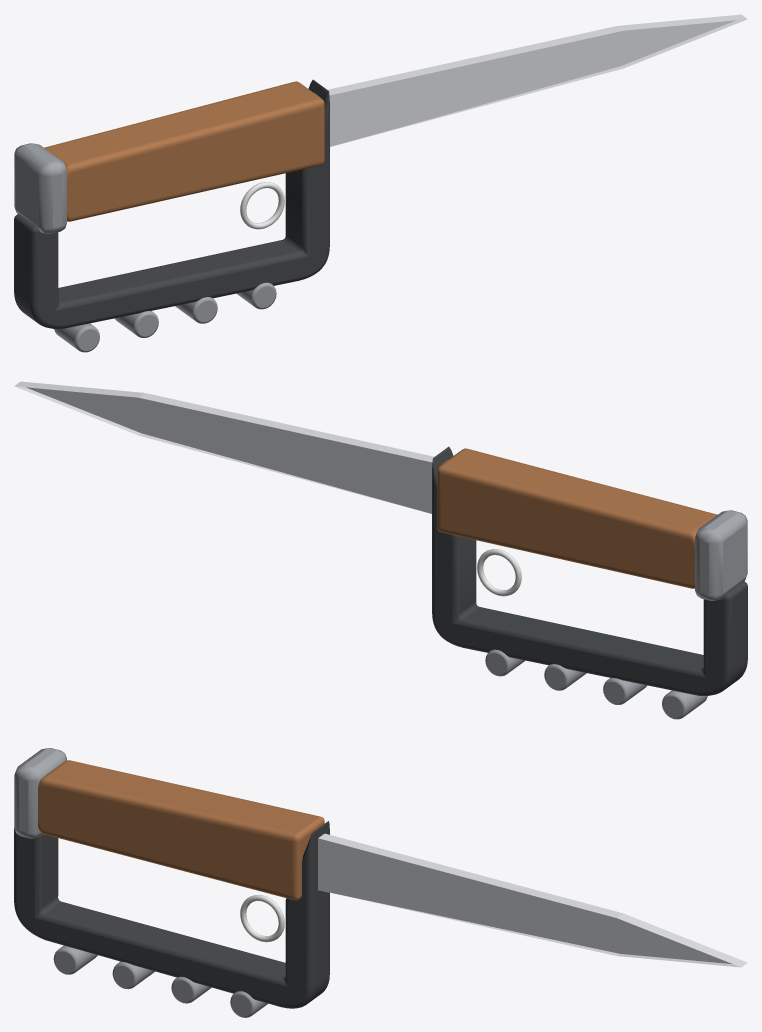
Rendered from knife_trench.glb.
3 renders of one model, top to bottom at view 1: azimuth 30°, elevation 25°; view 2: azimuth 150°, elevation 25°; view 3: azimuth 330°, elevation 25°, orthographic.
Parts seen in each view (by area): view 1: handle, knuckle, blade, pommel, stud3, ringmark, stud2, stud1, stud0; view 2: handle, knuckle, blade, pommel, stud3, ringmark, stud2, stud1, stud0; view 3: handle, knuckle, blade, pommel, ringmark, stud3, stud2, stud1, stud0.
Part boxes in pixels (x1=…): handle: x1=44, y1=81, x2=324, y2=221; knuckle: x1=14, y1=79, x2=329, y2=328; blade: x1=314, y1=14, x2=747, y2=146; pommel: x1=14, y1=143, x2=66, y2=233; stud3: x1=54, y1=323, x2=99, y2=352; ringmark: x1=240, y1=182, x2=284, y2=229; stud2: x1=114, y1=311, x2=158, y2=337; stud1: x1=175, y1=297, x2=217, y2=323; stud0: x1=237, y1=282, x2=276, y2=309; handle: x1=437, y1=448, x2=717, y2=588; knuckle: x1=432, y1=446, x2=747, y2=695; blade: x1=14, y1=381, x2=447, y2=513; pommel: x1=695, y1=510, x2=747, y2=600; stud3: x1=662, y1=690, x2=707, y2=719; ringmark: x1=477, y1=549, x2=521, y2=596; stud2: x1=603, y1=678, x2=647, y2=704; stud1: x1=544, y1=664, x2=586, y2=690; stud0: x1=485, y1=649, x2=524, y2=676; handle: x1=38, y1=760, x2=324, y2=900; knuckle: x1=14, y1=821, x2=329, y2=1008; blade: x1=318, y1=833, x2=747, y2=967; pommel: x1=14, y1=748, x2=66, y2=838; ringmark: x1=240, y1=894, x2=284, y2=942; stud3: x1=53, y1=945, x2=97, y2=974; stud2: x1=112, y1=961, x2=154, y2=989; stud1: x1=171, y1=976, x2=211, y2=1003; stud0: x1=230, y1=991, x2=267, y2=1017.
Bounding box in the file's own units: 0.319 × 0.0845 × 0.026.
